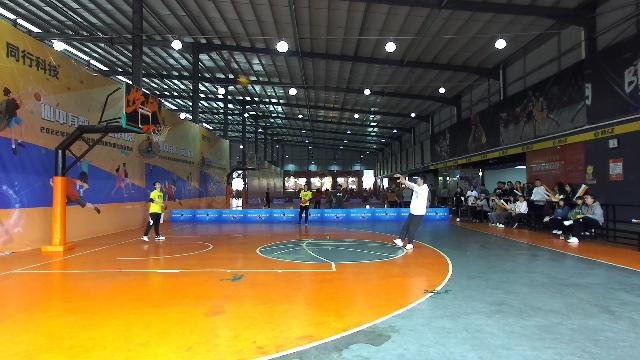ball: (238, 76, 248, 86), (300, 198, 306, 204)
basket: (150, 124, 170, 142)
